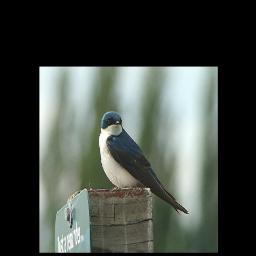Swallow: (99, 111, 189, 216)
